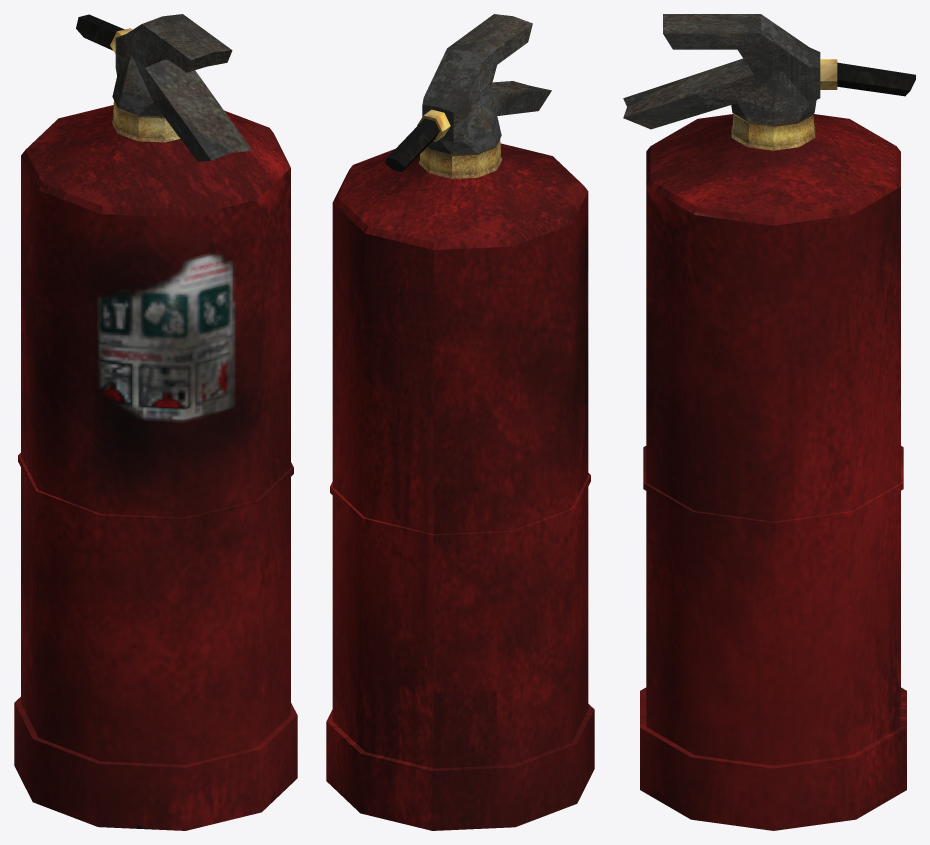
File: other_fireextinguisher.dae
The picture shows the model from 3 angles, left to right: view 1: azimuth 30°, elevation 25°; view 2: azimuth 150°, elevation 25°; view 3: azimuth 270°, elevation 25°; orthographic projection. The views are drawn at different scales.
Visible parts, largest first — view 1: fireextinguisher; view 2: fireextinguisher; view 3: fireextinguisher.
Part boxes in pixels (x1,y1,x2,y2): fireextinguisher: [14, 14, 297, 830]; fireextinguisher: [326, 14, 594, 830]; fireextinguisher: [623, 14, 915, 830].
Size of what is drawn, in the model's own units: 0.2097 by 0.6182 by 0.2185.
Materials: 1 (1 with a texture image).
